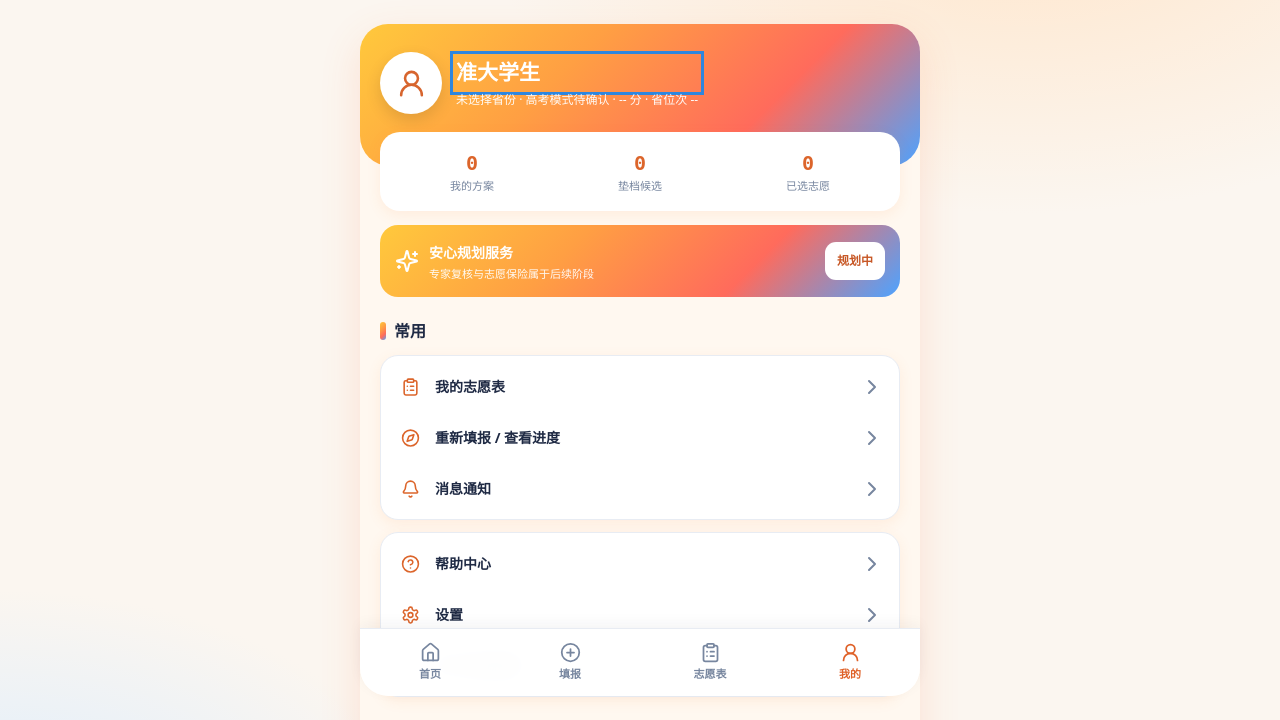
Test: 路由、恢复与持久化验收 › 规划中能力只显示通知，不进入购买流程
The image size is (1280, 720).
Click the button "规划中" at {"x": 855, "y": 261}, box [825,242,885,280]
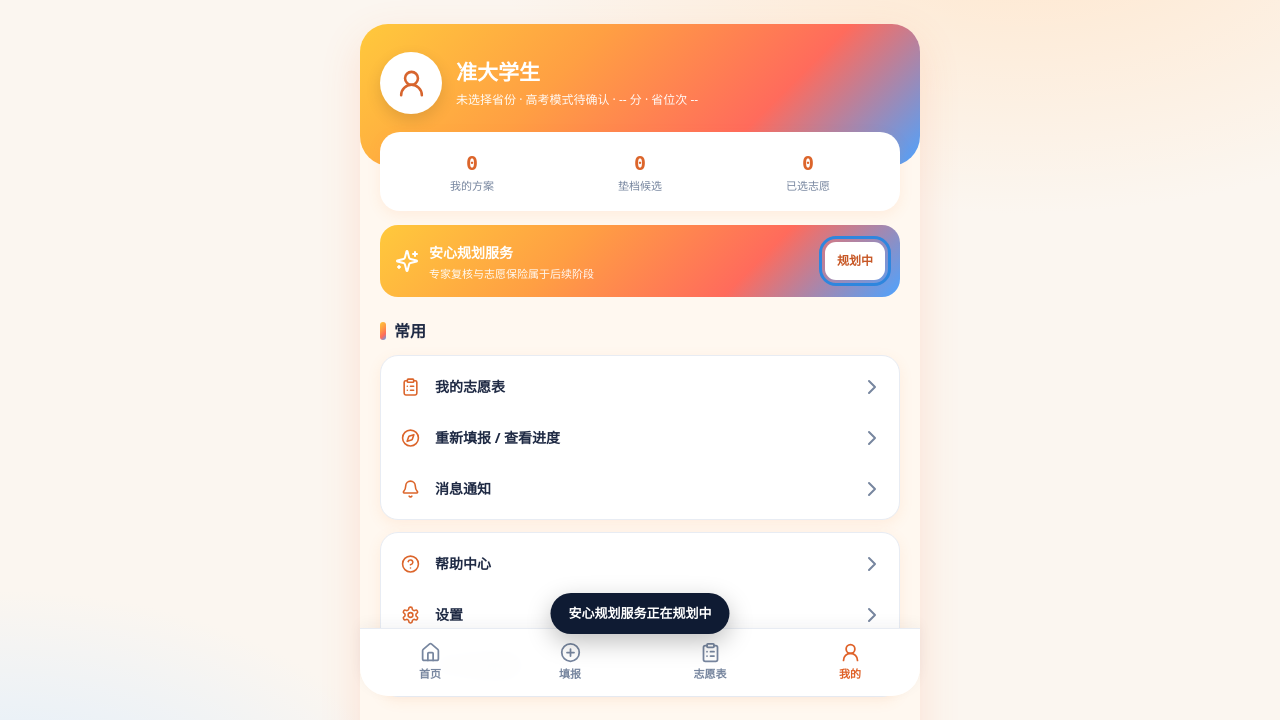
Check: the message shows "正在规划中", box [568,604,712,622]
